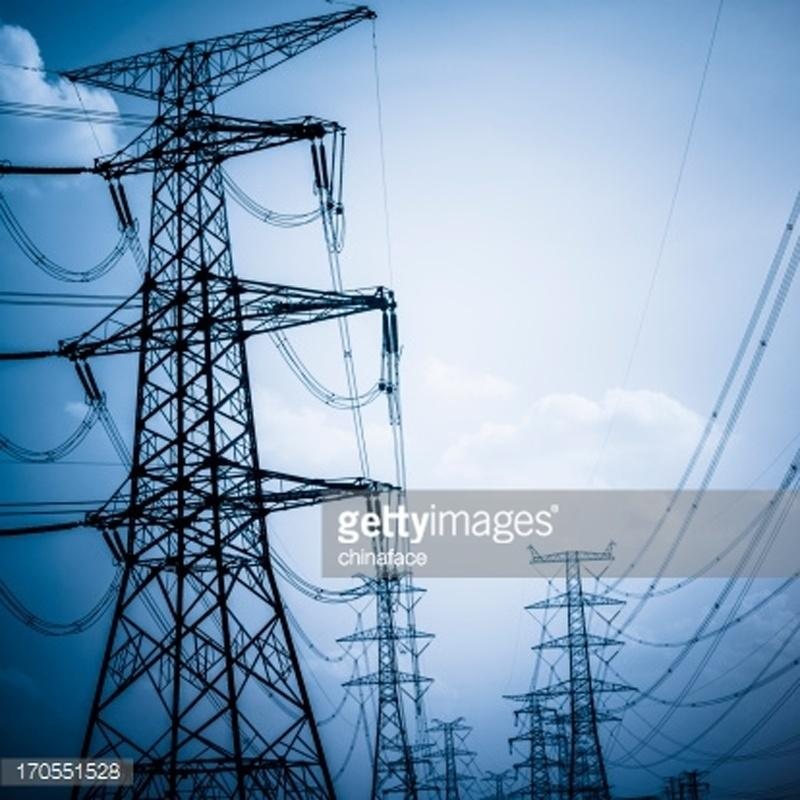power_tower: (65, 27, 360, 732), (520, 547, 637, 735), (335, 557, 436, 734)
